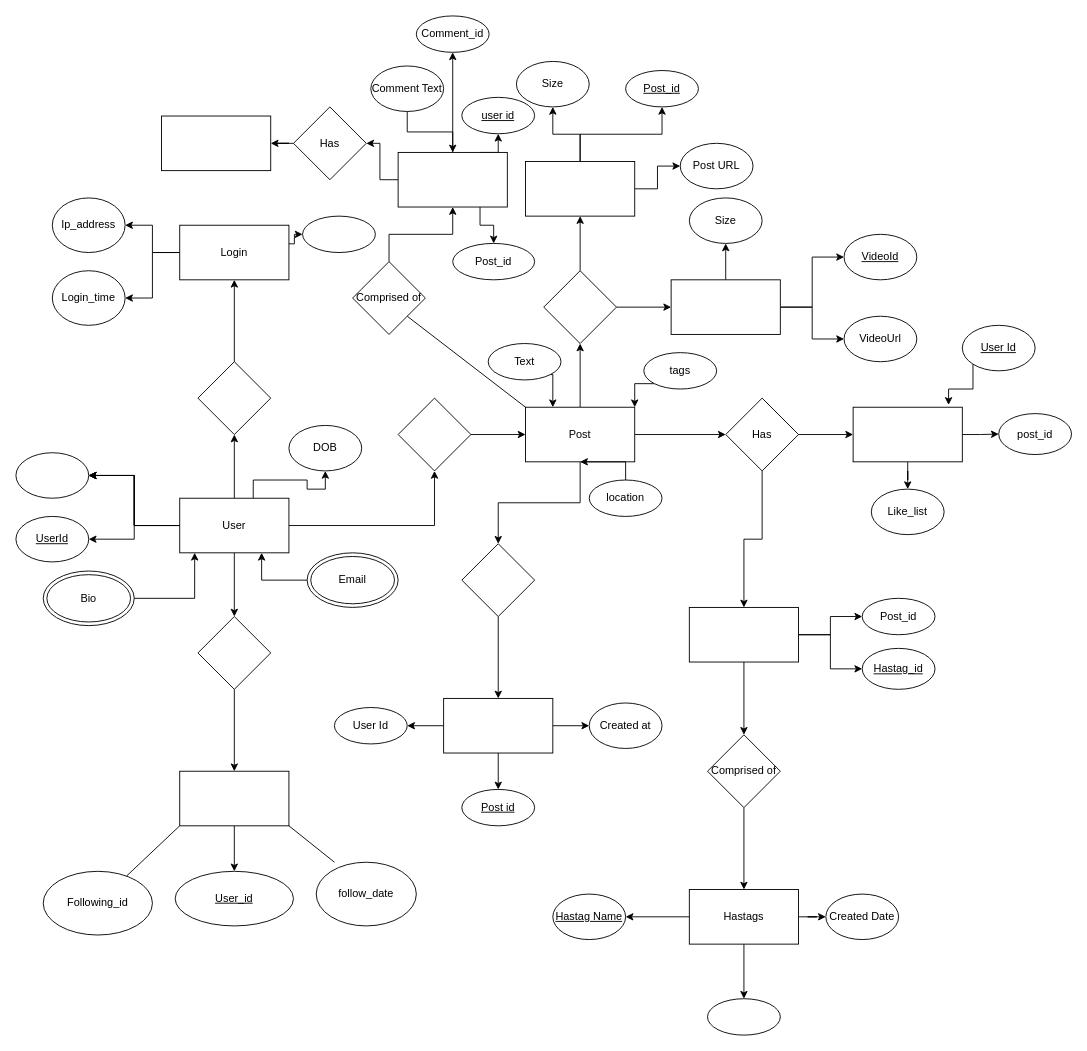
Some shapes in this 1087 by 1051 pixel diagram are drawn without their labels. The shapes that lost their labels are listed below. From the top down, each one's box as (x1, y1, x2, y2) in pixels, then its label:
(161, 115, 271, 171): Comment likes
(397, 152, 507, 207): Comments
(525, 161, 635, 216): Photos
(302, 215, 375, 253): LoginId
(543, 270, 617, 344): Contains
(670, 279, 780, 334): Videos
(197, 361, 271, 435): Authorized
(397, 397, 471, 471): Uploaded
(852, 406, 962, 462): Post Likes
(15, 452, 89, 498): UserName
(461, 543, 535, 617): Saved as
(197, 616, 271, 689): Followed by
(688, 607, 799, 662): Post Tags
(443, 698, 553, 753): Bookmarks
(179, 770, 289, 826): Followers
(707, 998, 780, 1035): Hastag_count
